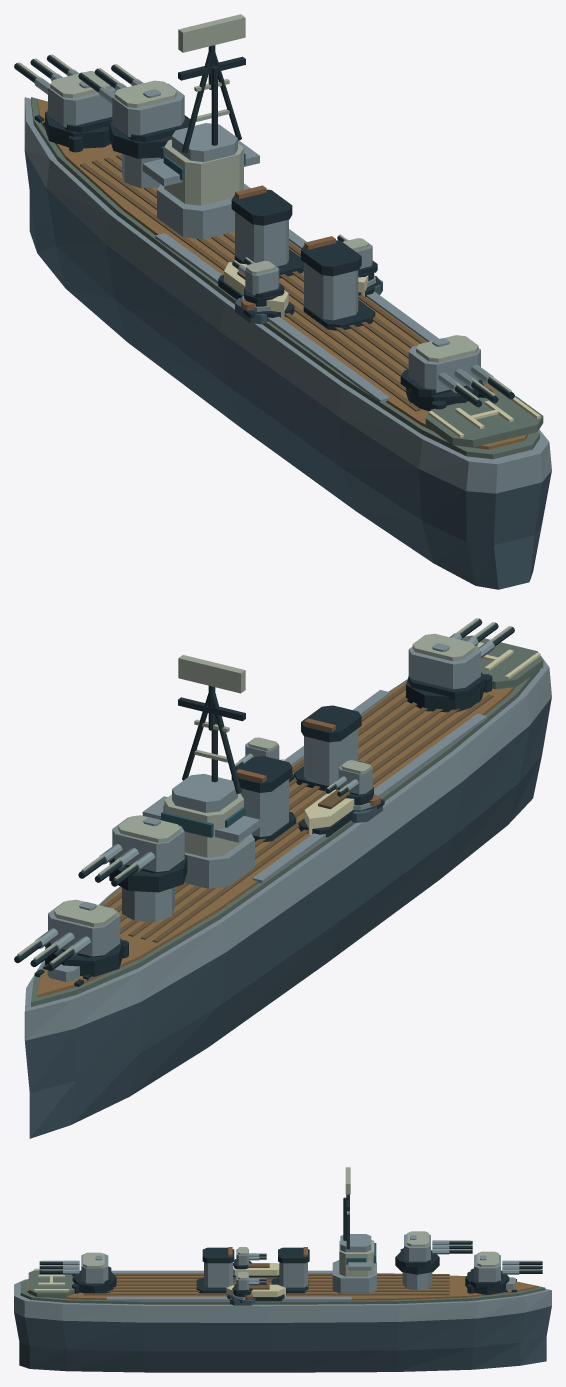
File: historic-des-moines.glb
3 renders of one model, top to bottom at view 1: azimuth 30°, elevation 25°; view 2: azimuth 150°, elevation 25°; view 3: azimuth 270°, elevation 25°, orthographic. The views are drawn at different scales.
Visible parts, largest first — view 1: historic-des-moines-historic-des-moines-geometry, historic-des-moines-part_bridge.101-geometry, historic-des-moines-turret_main_1.068-geometry, historic-des-moines-turret_main_2.061-geometry, historic-des-moines-turret_main_0.072-geometry, historic-des-moines-historic_funnel_1.051-geometry, historic-des-moines-historic_funnel_0.099-geometry, historic-des-moines-turret_aa_aa-port.103-geometry, historic-des-moines-turret_aa_aa-starboard.099-geometry; view 2: historic-des-moines-historic-des-moines-geometry, historic-des-moines-part_bridge.101-geometry, historic-des-moines-turret_main_2.061-geometry, historic-des-moines-turret_main_1.068-geometry, historic-des-moines-turret_main_0.072-geometry, historic-des-moines-historic_funnel_1.051-geometry, historic-des-moines-historic_funnel_0.099-geometry, historic-des-moines-turret_aa_aa-port.103-geometry, historic-des-moines-turret_aa_aa-starboard.099-geometry; view 3: historic-des-moines-historic-des-moines-geometry, historic-des-moines-part_bridge.101-geometry, historic-des-moines-turret_main_1.068-geometry, historic-des-moines-turret_main_0.072-geometry, historic-des-moines-turret_main_2.061-geometry, historic-des-moines-historic_funnel_1.051-geometry, historic-des-moines-historic_funnel_0.099-geometry, historic-des-moines-turret_aa_aa-starboard.099-geometry, historic-des-moines-turret_aa_aa-port.103-geometry.
Boxes of the visible parts, box(x1,y1,x2,y2) form: historic-des-moines-historic-des-moines-geometry: box(24, 97, 551, 589); historic-des-moines-part_bridge.101-geometry: box(142, 14, 259, 239); historic-des-moines-turret_main_1.068-geometry: box(78, 64, 190, 158); historic-des-moines-turret_main_2.061-geometry: box(400, 335, 514, 411); historic-des-moines-turret_main_0.072-geometry: box(14, 54, 115, 148); historic-des-moines-historic_funnel_1.051-geometry: box(301, 236, 375, 330); historic-des-moines-historic_funnel_0.099-geometry: box(231, 185, 303, 278); historic-des-moines-turret_aa_aa-port.103-geometry: box(232, 257, 284, 306); historic-des-moines-turret_aa_aa-starboard.099-geometry: box(337, 234, 377, 281); historic-des-moines-historic-des-moines-geometry: box(24, 635, 551, 1138); historic-des-moines-part_bridge.101-geometry: box(142, 655, 259, 888); historic-des-moines-turret_main_2.061-geometry: box(406, 618, 514, 712); historic-des-moines-turret_main_1.068-geometry: box(78, 815, 187, 892); historic-des-moines-turret_main_0.072-geometry: box(14, 899, 123, 976); historic-des-moines-historic_funnel_1.051-geometry: box(294, 705, 361, 790); historic-des-moines-historic_funnel_0.099-geometry: box(231, 756, 296, 842); historic-des-moines-turret_aa_aa-port.103-geometry: box(325, 760, 373, 805); historic-des-moines-turret_aa_aa-starboard.099-geometry: box(234, 737, 279, 769); historic-des-moines-historic-des-moines-geometry: box(14, 1263, 551, 1372); historic-des-moines-part_bridge.101-geometry: box(332, 1167, 376, 1293); historic-des-moines-turret_main_1.068-geometry: box(395, 1231, 472, 1274); historic-des-moines-turret_main_0.072-geometry: box(465, 1251, 542, 1294); historic-des-moines-turret_main_2.061-geometry: box(39, 1252, 116, 1293); historic-des-moines-historic_funnel_1.051-geometry: box(196, 1247, 234, 1293); historic-des-moines-historic_funnel_0.099-geometry: box(271, 1247, 309, 1293); historic-des-moines-turret_aa_aa-starboard.099-geometry: box(232, 1272, 266, 1297); historic-des-moines-turret_aa_aa-port.103-geometry: box(233, 1247, 266, 1269).
Size of the model in its own units: 0.6815 by 1.65 by 4.32.
